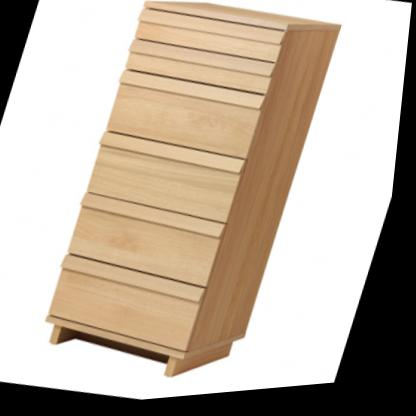Cabinet: (30, 0, 355, 409)
